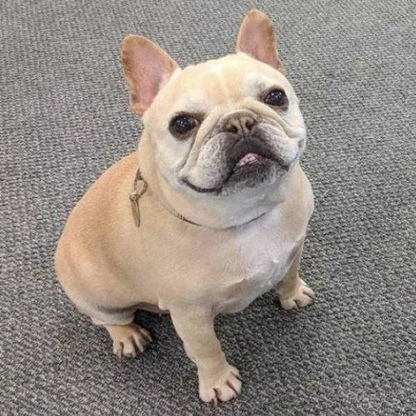bulldog: (100, 10, 313, 353)
